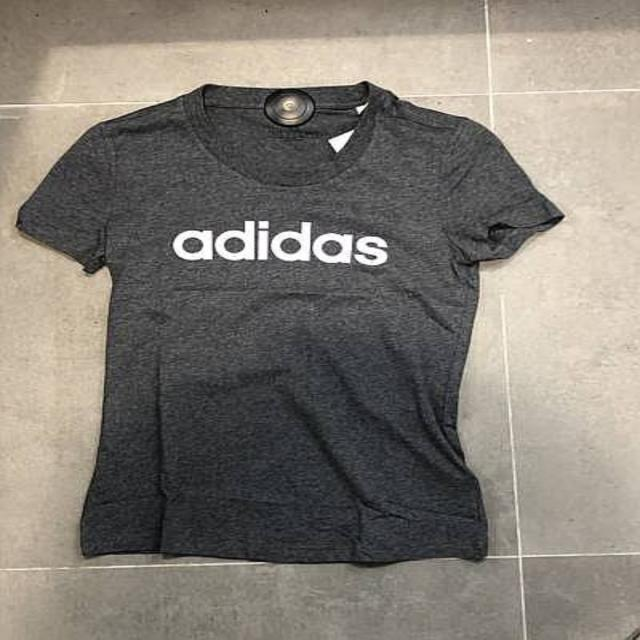T_SHIRT: (9, 78, 563, 572)
